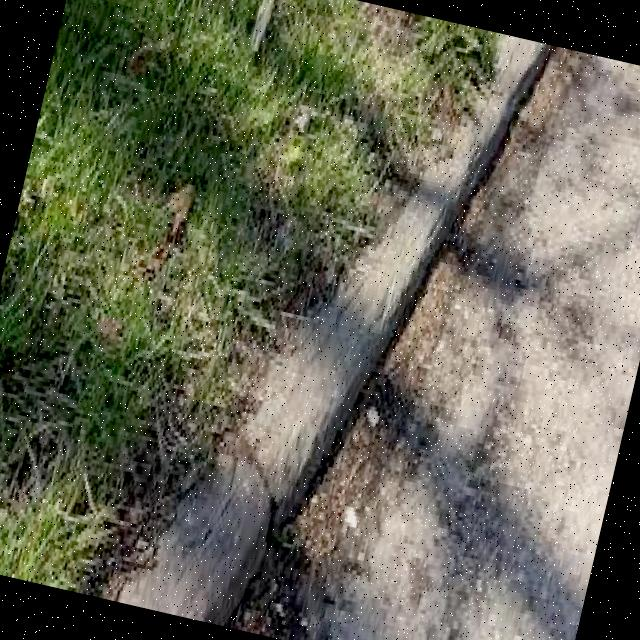curb: (138, 1, 547, 640)
